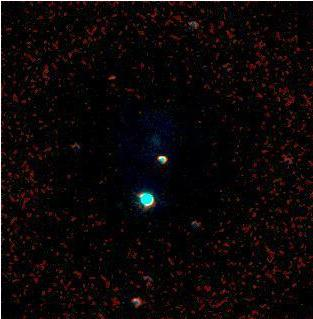star: (94, 60, 124, 90)
